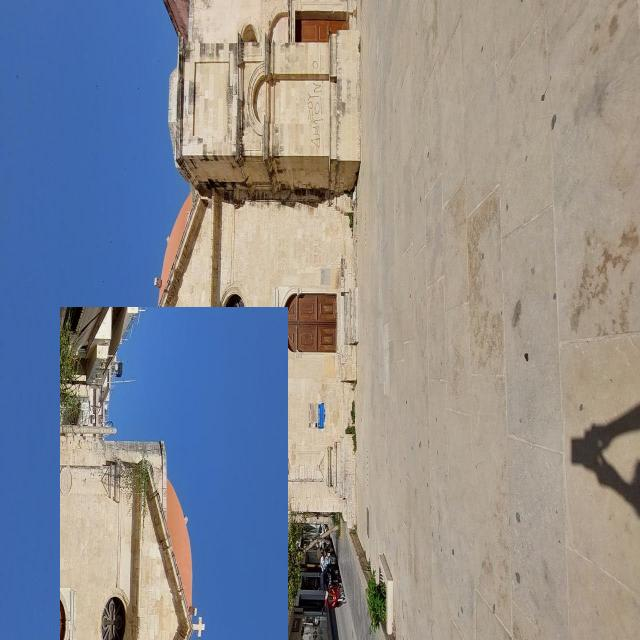Agia Aikaterini: (61, 308, 289, 640)
